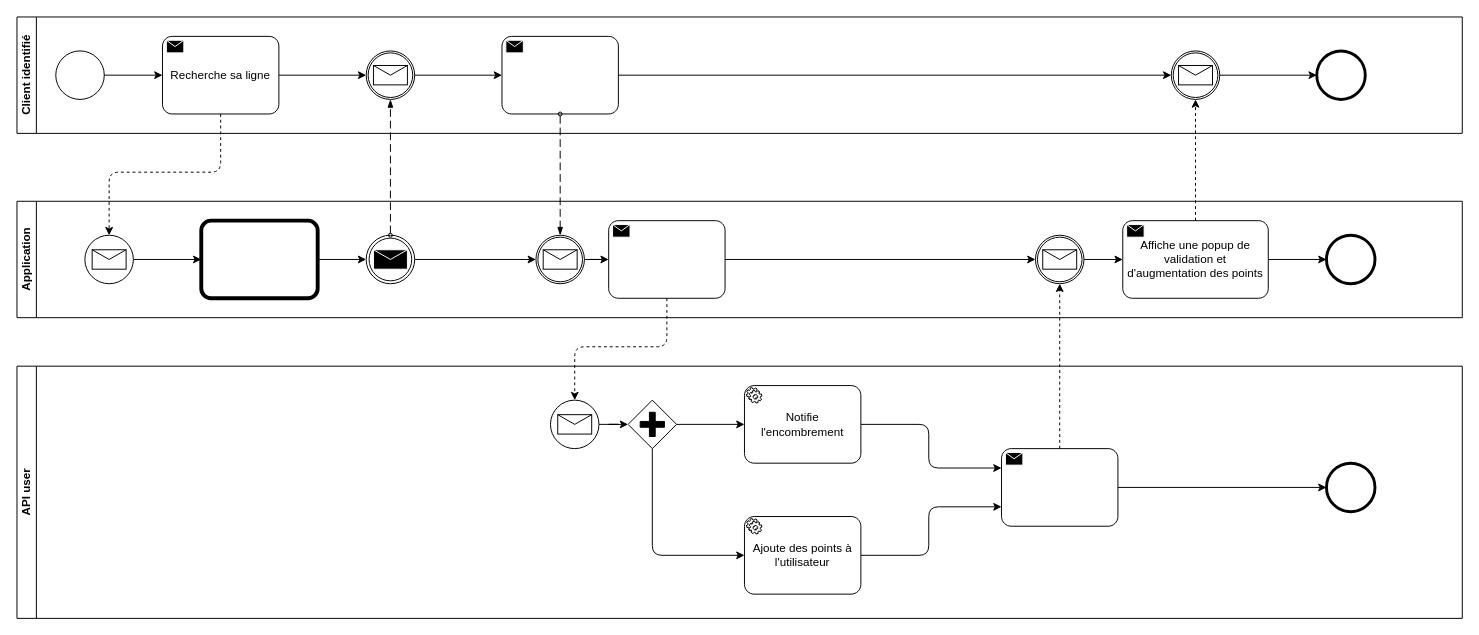
This 1479x635 diagram has some shape labels left out. Each missing label, with the centre of its shape:
"Envoie choix d'encombrement parmi les 3 choix" goes at [559,74].
"Envoie l'encombrement et l'utilisateur" goes at [666,259].
"Envoie une validation" goes at [1059,487].
"Recherche une ligne par nom d'arrêt" goes at [259,259].
